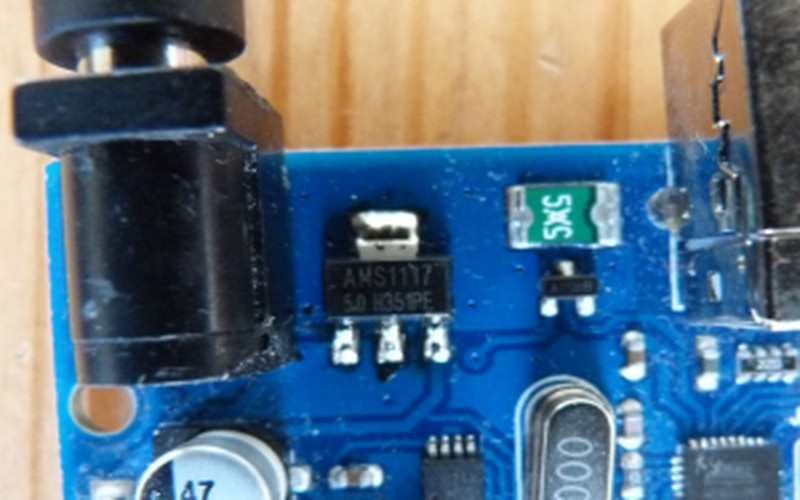Regulator: (26, 120, 645, 388)
